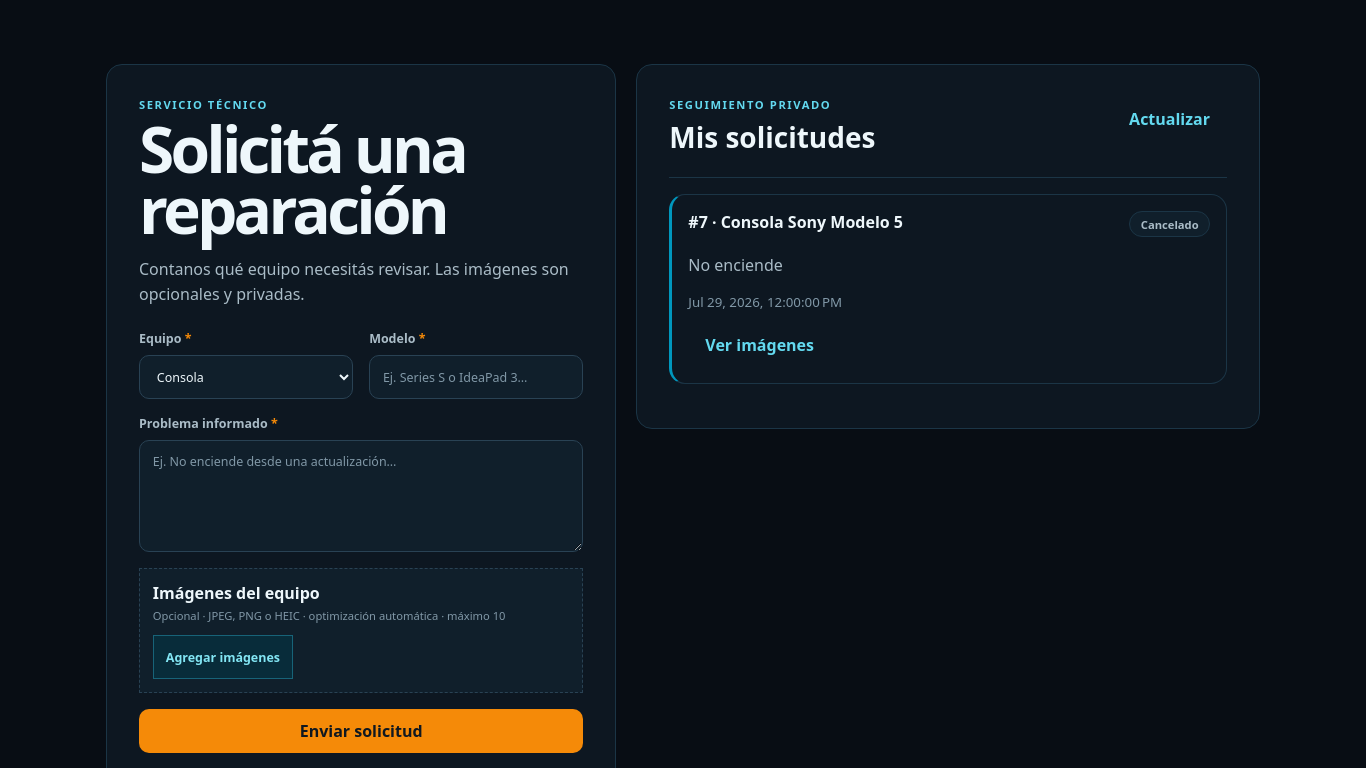
it: TicketsComponent attachment gallery › keeps cancelled ticket attachments visible while blocking new image selection and upload
Click the button "Ver imágenes" at (760, 345), box [688, 323, 831, 367]
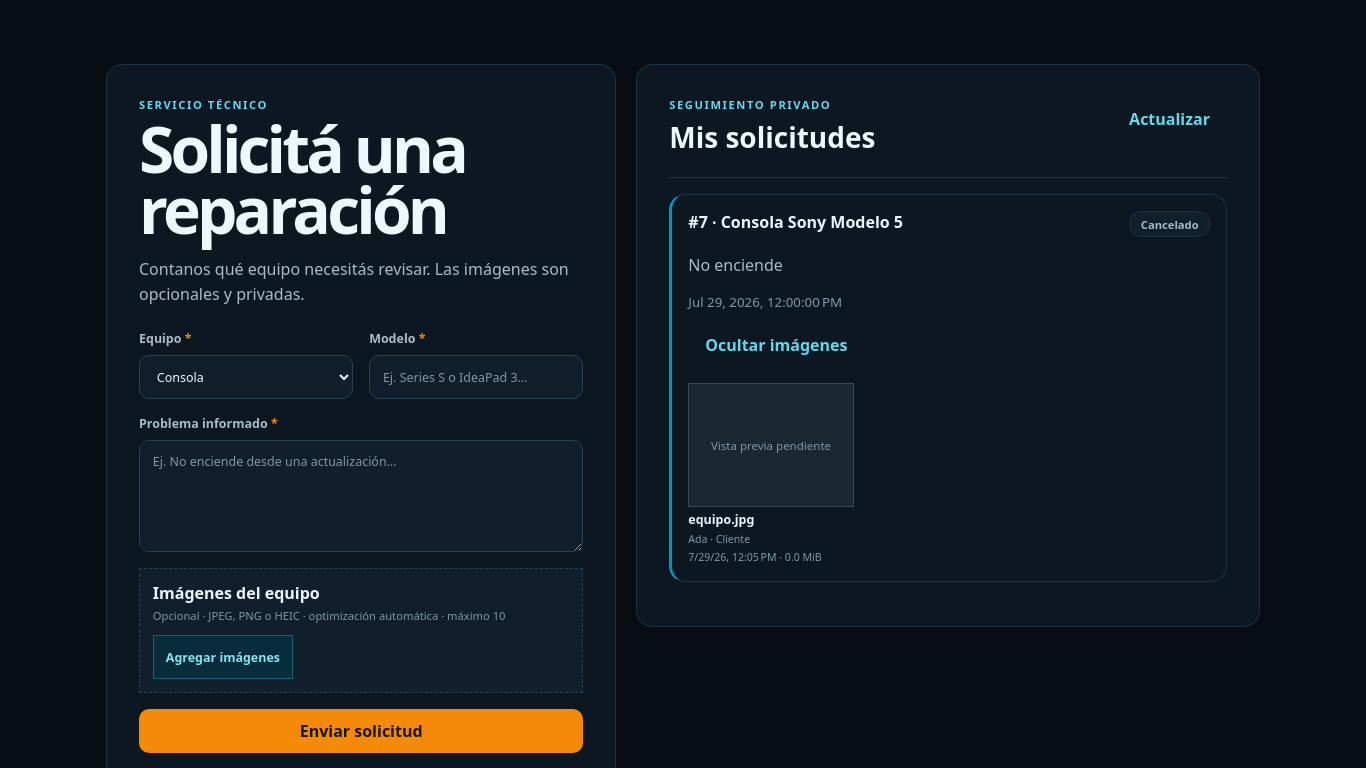
Result: the element that starts with "Vista previa pendiente" is shown at [688, 383, 854, 564]
